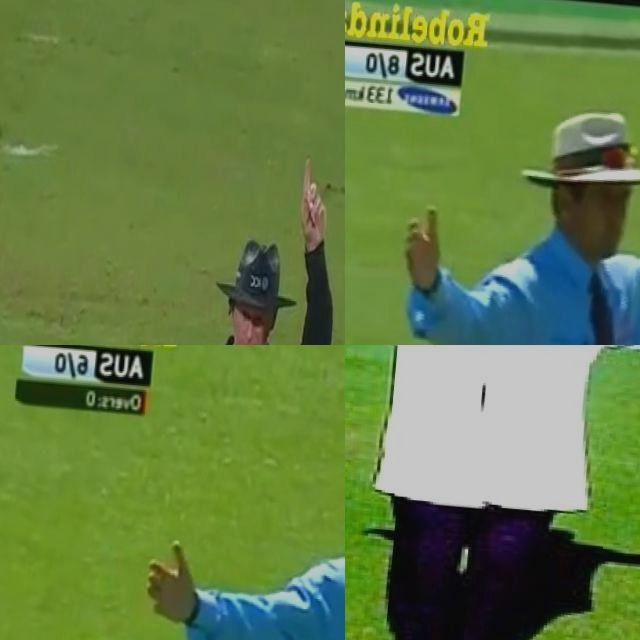No_Ball: (116, 389, 345, 640)
Out: (145, 135, 345, 345)
Wide: (345, 345, 640, 640), (366, 87, 640, 345)
